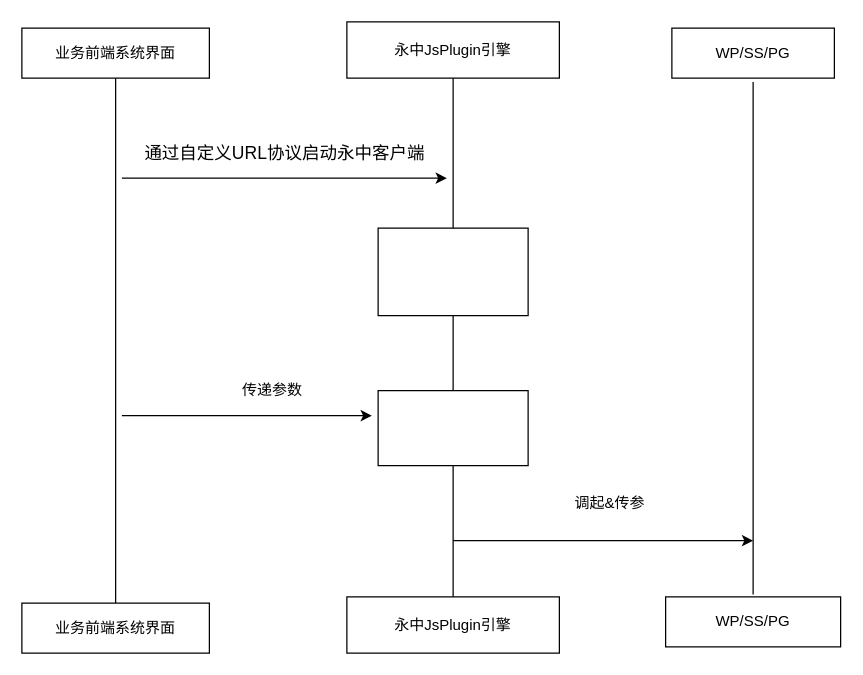
This 863x675 diagram has some shape labels left out. Each missing label, with the centre of its shape:
"启动永中监听服务" goes at point (452, 271).
"解析参数" goes at point (452, 427).
